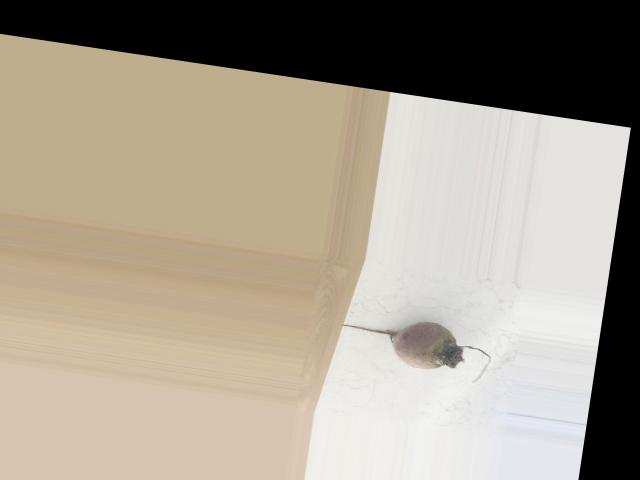beet: (333, 308, 493, 384)
